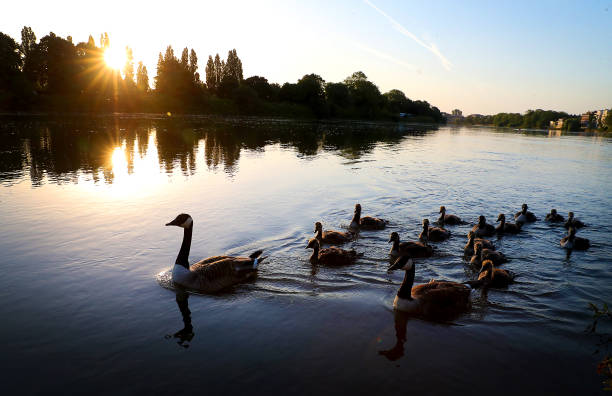goose: (163, 212, 263, 298), (387, 253, 475, 325)
